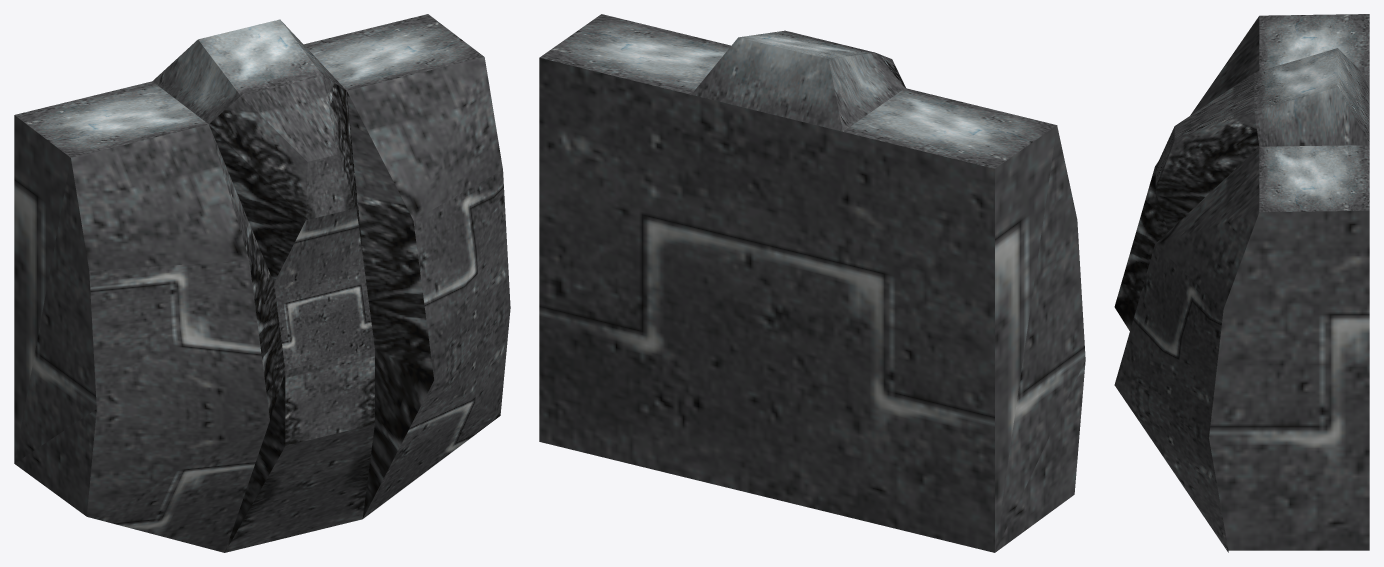
3 renders of one model, left to right at view 1: azimuth 30°, elevation 25°; view 2: azimuth 150°, elevation 25°; view 3: azimuth 270°, elevation 25°, orthographic. The views are drawn at different scales.
Parts seen in each view (by area): view 1: a19; view 2: a19; view 3: a19.
Boxes of the visible parts, left/top/right/bottom form: a19: left=14, top=14, right=510, bottom=552; a19: left=539, top=14, right=1085, bottom=552; a19: left=1114, top=14, right=1369, bottom=552.
Size of the model in its own units: 762 by 819 by 418.
